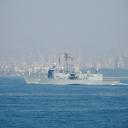Fragata: (21, 44, 122, 87)
